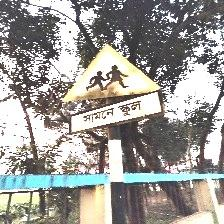School-in-front: (61, 44, 164, 135)
